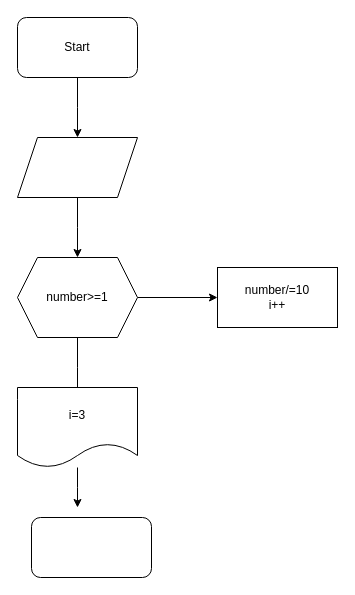
Image size: 355x595. Some labels were removed from this diagram. The centre of each missing label's shape, as x and y in pixels:
"number i=0" goes at [77,167].
"Stop" goes at [91,547].
